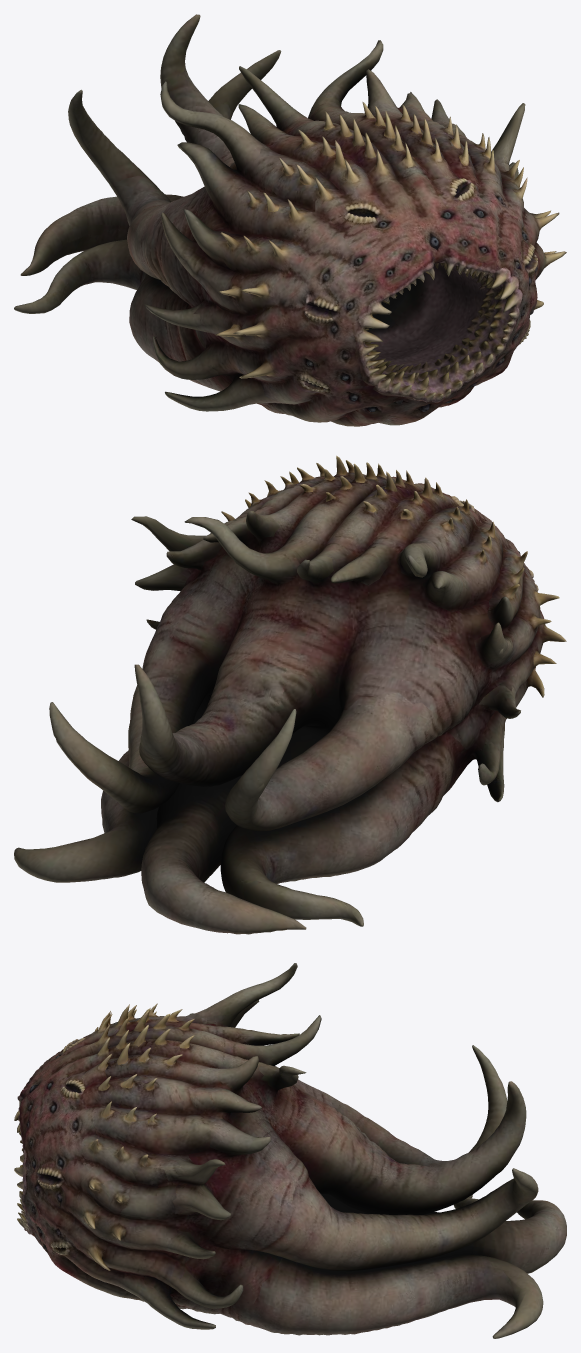
The model's file is MZ4250 - Azathoth.glb.
The picture shows the model from 3 angles, top to bottom: view 1: azimuth 30°, elevation 25°; view 2: azimuth 150°, elevation 25°; view 3: azimuth 270°, elevation 25°; orthographic projection. The views are drawn at different scales.
Visible parts, largest first — view 1: ORGANIC BASE SPHERE.001; view 2: ORGANIC BASE SPHERE.001; view 3: ORGANIC BASE SPHERE.001.
Boxes of the visible parts, x1=… form: ORGANIC BASE SPHERE.001: x1=14, y1=14, x2=566, y2=426; ORGANIC BASE SPHERE.001: x1=14, y1=455, x2=566, y2=934; ORGANIC BASE SPHERE.001: x1=14, y1=963, x2=566, y2=1338.
Bounding box in the file's own units: 4.41 × 3.32 × 6.15.
1 material, 1 textured.
